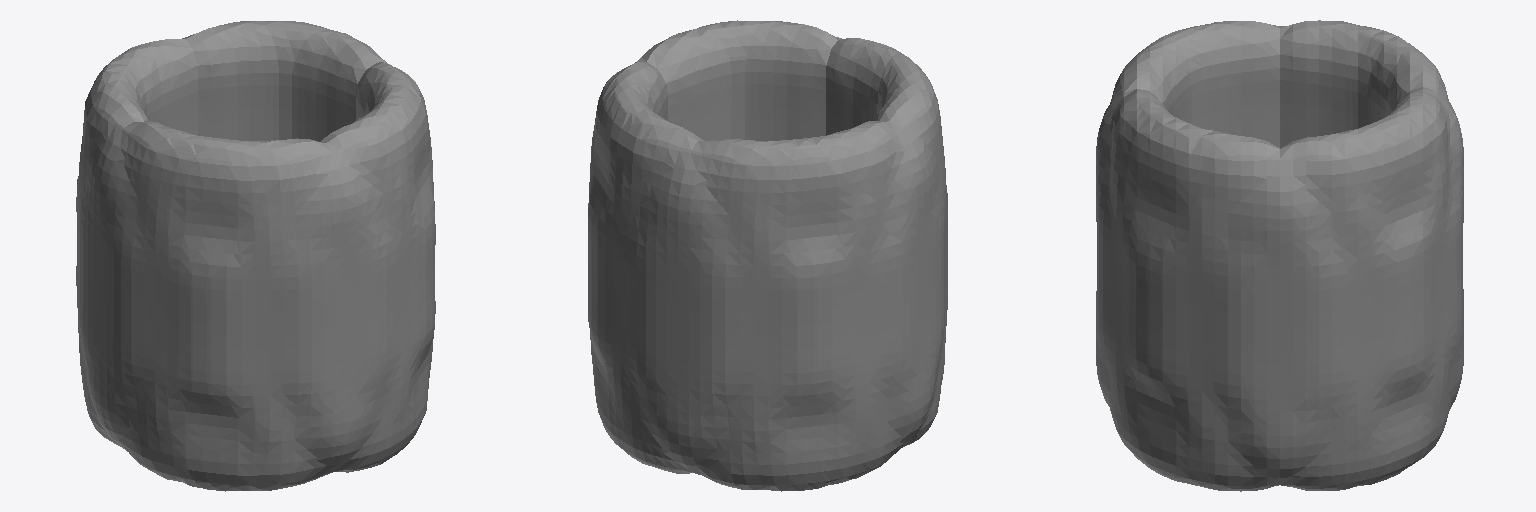
The robot description file, URDF, robot "cube.urdf":
<?xml version="0.0" ?> 
<robot name="cube.urdf"> 
<link name="legobrick"> 
<contact> 
<lateral_friction value="5.0"/> 
<rolling_friction value="0.0"/> 
<contact_cfm value="0.0"/> 
<contact_erp value="1.0"/> 
</contact> 
<inertial> 
<origin rpy="0 0 0" xyz="0.0 0.0 0.0"/> 
<mass value=".01"/> 
<inertia ixx="1" ixy="0" ixz="0" iyy="1" iyz="0" izz="1"/> 
</inertial> 
<visual> 
<origin rpy="1.570796 0 0" xyz="-0.028013916915519643 0.0279970230409565 -0.02799408864108761"/> 
<geometry> 
<mesh filename="C06_2.obj" scale="0.0006921380488916134 0.0006921380488916134 0.0006921380488916134"/> 
</geometry> 
<material name="yellow"> 
<color rgba="0.6 0.6 0.6 1"/> 
</material> 
</visual> 
<collision> 
<origin rpy="1.570796 0 0" xyz="-0.028013916915519643 0.0279970230409565 -0.02799408864108761"/> 
<geometry> 
<mesh filename="C06_2.obj" scale="0.0006921380488916134 0.0006921380488916134 0.0006921380488916134"/> 
</geometry> 
</collision> 
</link> 
</robot>

--- Facts derived from the render (not from the file) ---
Views: 3 orthographic renders of the robot side by side, from view 1: azimuth 30°, elevation 25°; view 2: azimuth 150°, elevation 25°; view 3: azimuth 270°, elevation 25°.
Model cube.urdf with 1 links and 0 joints (none), rooted at legobrick, posed every joint at zero.
Links seen in each view (by area): view 1: legobrick; view 2: legobrick; view 3: legobrick.
Link boxes in pixels (x1,y1,x2,y2): legobrick: (76,21,435,491); legobrick: (588,20,947,491); legobrick: (1096,20,1463,491).
Bounding box of the posed robot: 0.056 × 0.056 × 0.0596 m (x, y, z).
Meshes: 1 distinct files referenced, 1 mesh visuals loaded (1 OBJ).
